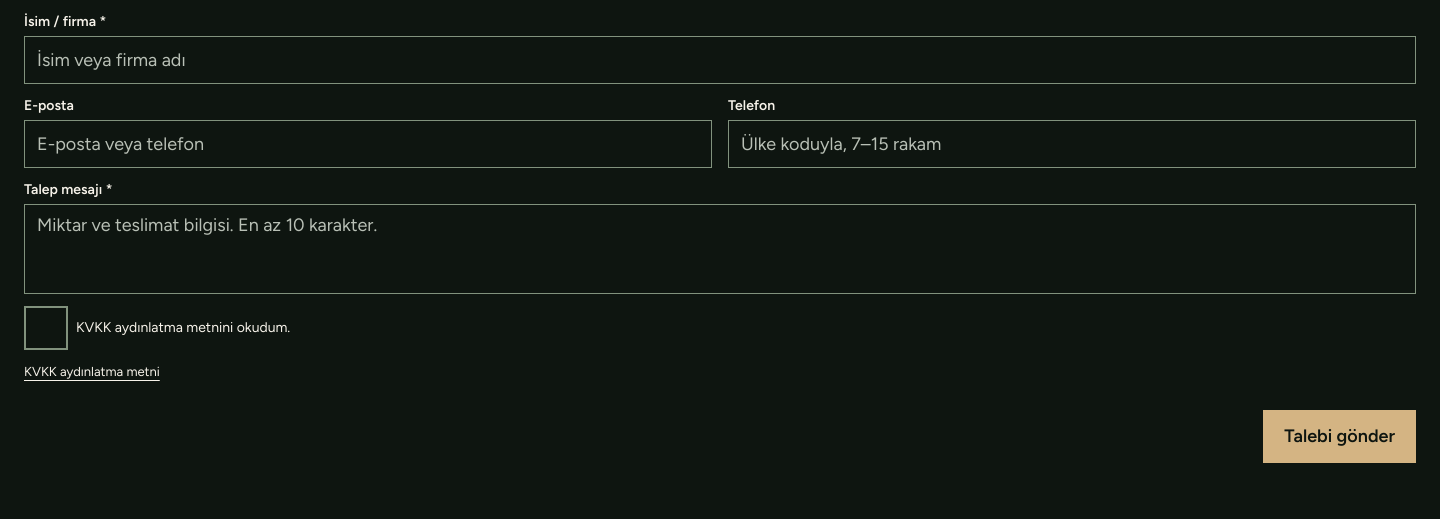
it: requires an explicit unchecked KVKK acknowledgement before sending and resets it after success
Click the checkbox labelled "KVKK aydınlatma metnini okudum.". click: point(46, 328)
box: [24,306,68,350]
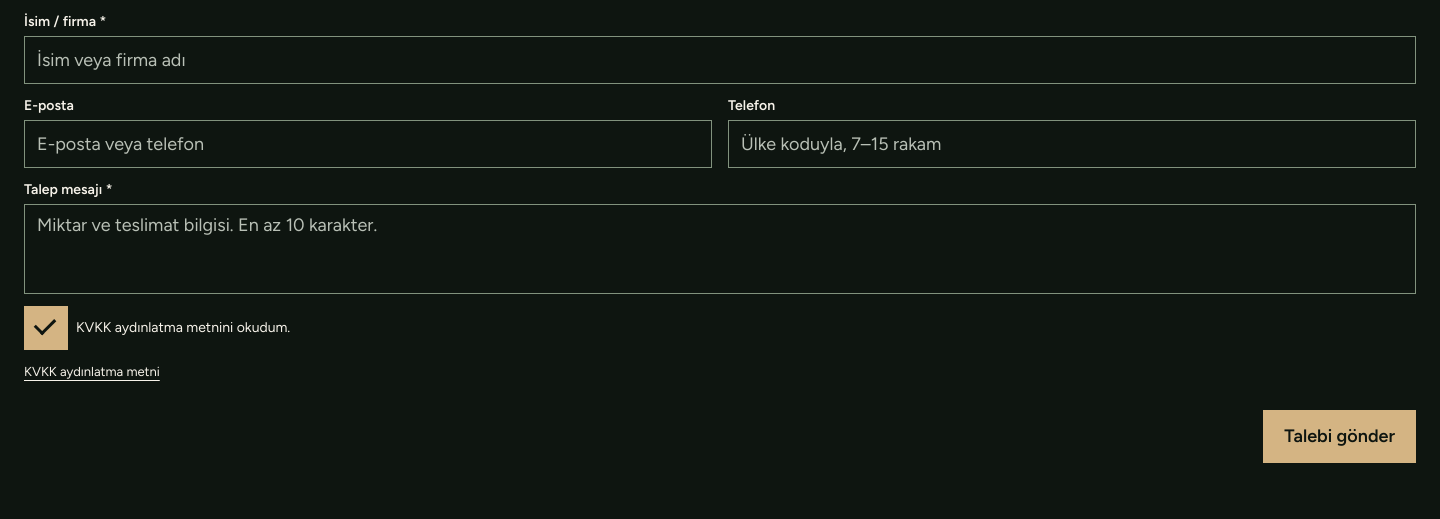
Type "  Örnek Firma  " into the field labelled "İsim / firma". click: point(720, 60)
box: [24,36,1416,84]
Type "talep@example.test" into the field labelled "E-posta". click: point(368, 144)
box: [24,120,712,168]
Type "  Zeytin için bilgi rica ederim.  " into the text box labelled "Talep mesajı". click: point(720, 249)
box: [24,204,1416,294]
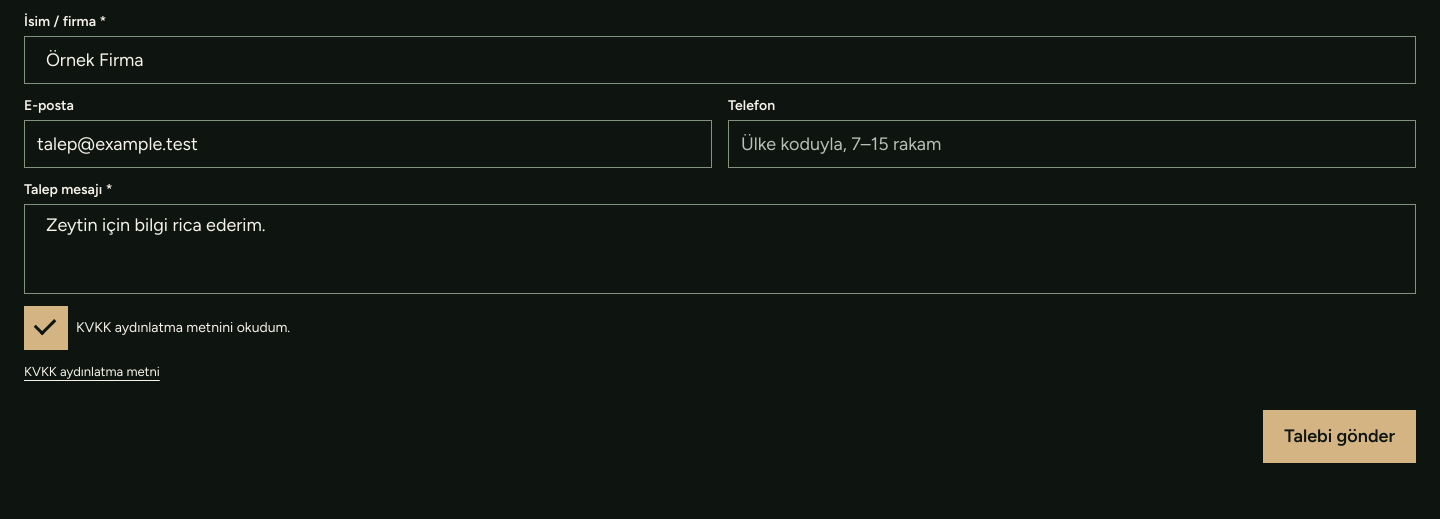
Click the checkbox labelled "KVKK aydınlatma metnini okudum.". click: point(46, 328)
box: [24,306,68,350]
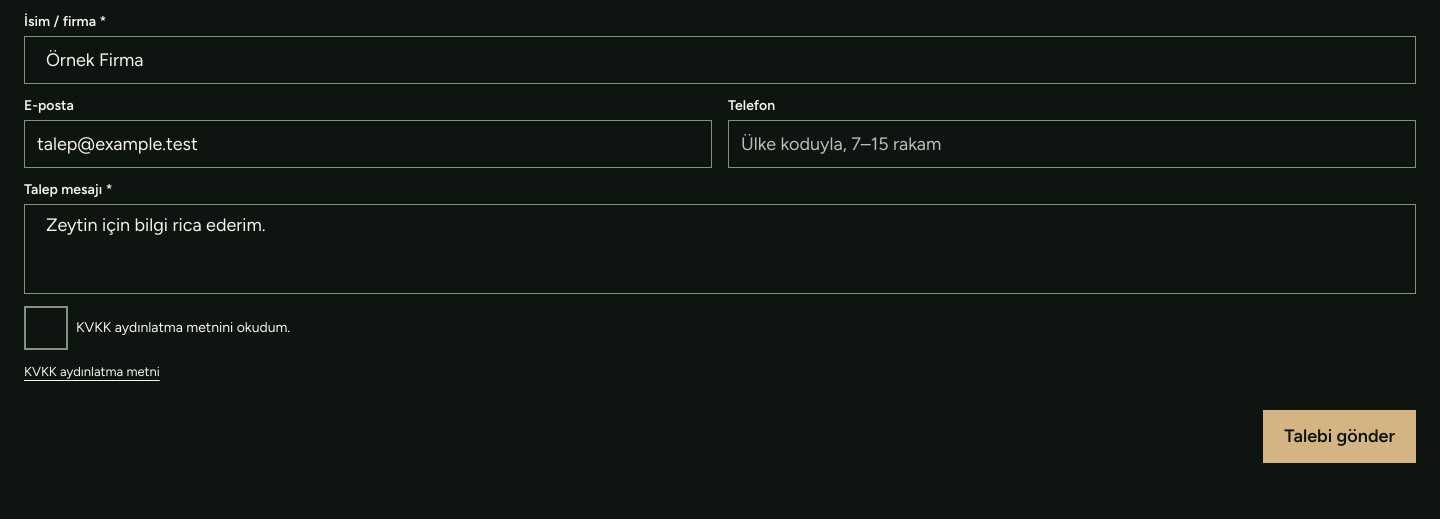
Submit the form named "Toptan teklif isteyin"
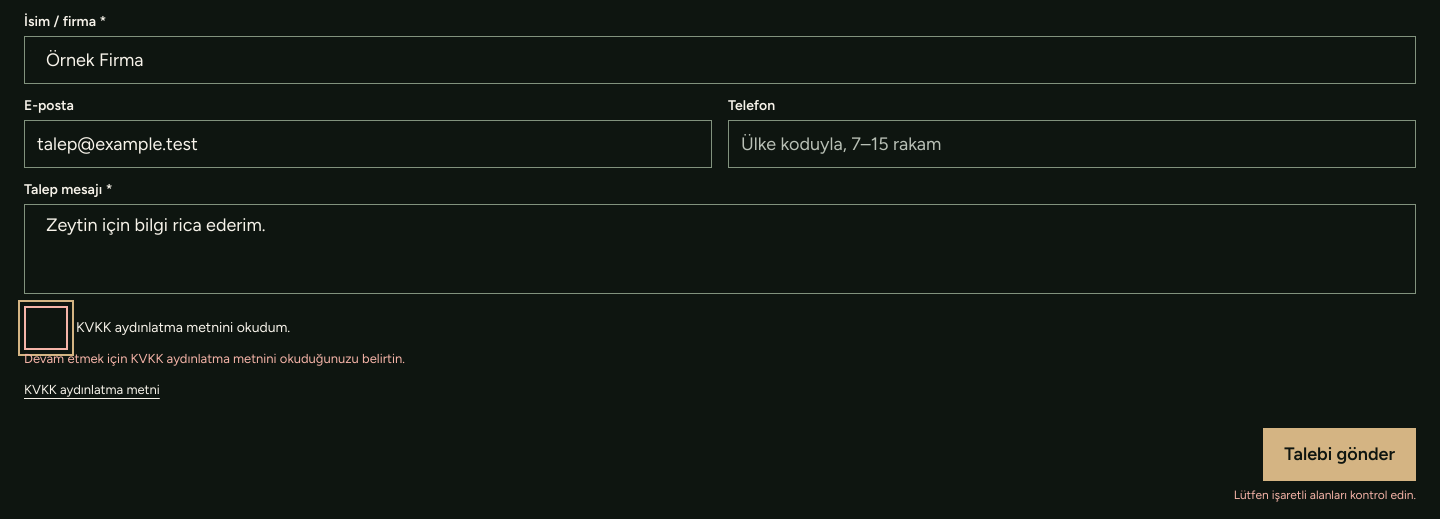
Click the checkbox labelled "KVKK aydınlatma metnini okudum.". click: point(46, 328)
box: [24,306,68,350]
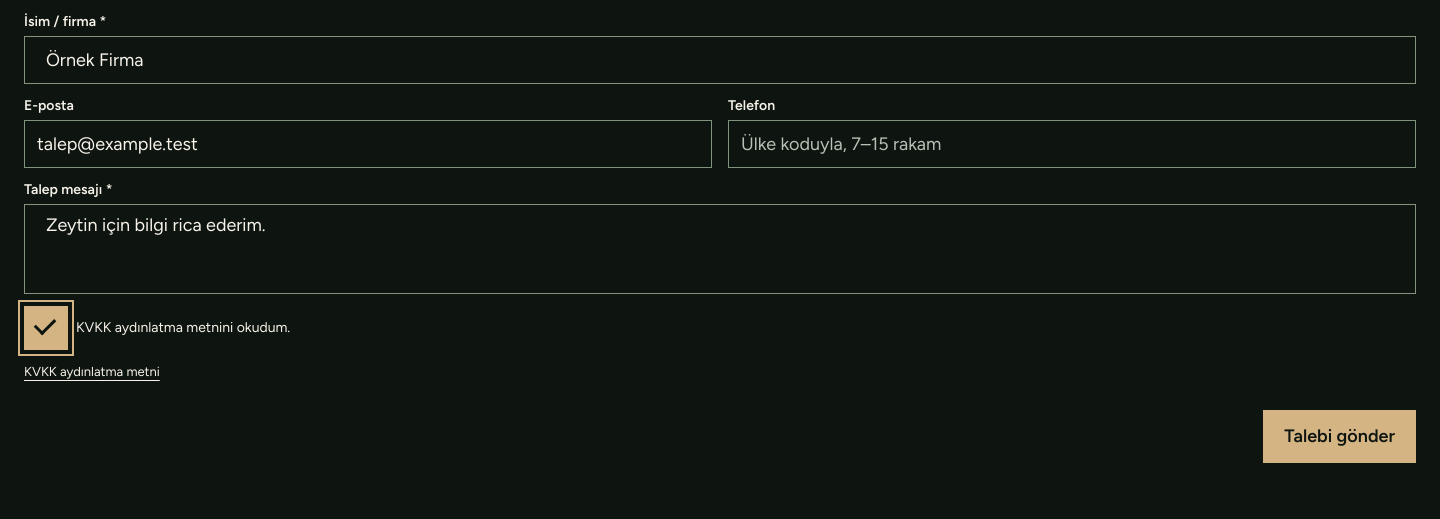
Submit the form named "Toptan teklif isteyin"
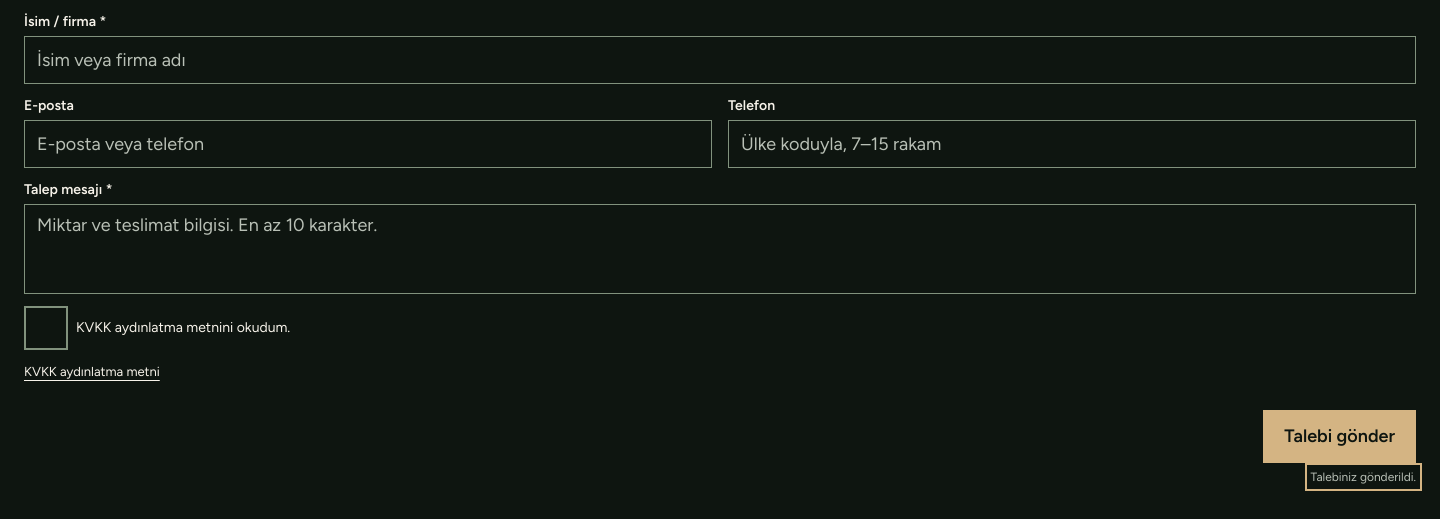
Expected: the checkbox labelled "KVKK aydınlatma metnini okudum." is not checked, [24,306,68,350]
Expected: the message reads "Talebiniz gönderildi.", [1311,470,1416,484]
